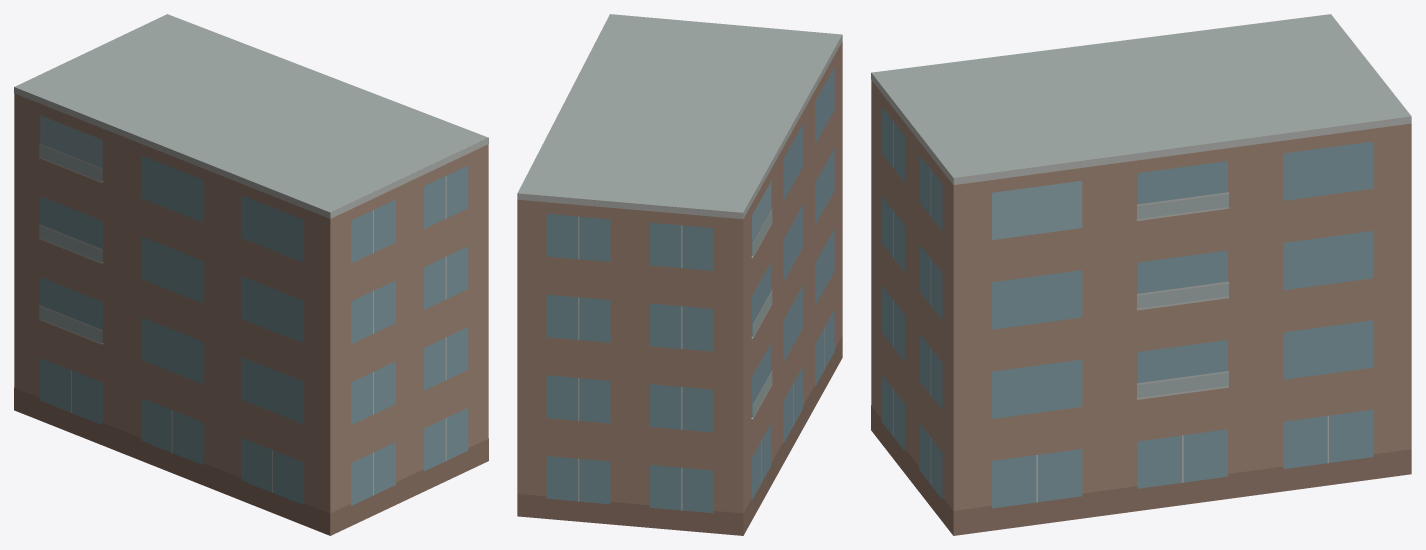
File: survey-upis-32612289.glb
The picture shows the model from 3 angles, left to right: view 1: azimuth 30°, elevation 25°; view 2: azimuth 150°, elevation 25°; view 3: azimuth 270°, elevation 25°; orthographic projection. The views are drawn at different scales.
Parts seen in each view (by area): view 1: survey-upis-32612289.tmp; view 2: survey-upis-32612289.tmp; view 3: survey-upis-32612289.tmp.
Part boxes in pixels (left/top/right/bottom): survey-upis-32612289.tmp: left=14, top=14, right=488, bottom=535; survey-upis-32612289.tmp: left=517, top=14, right=842, bottom=535; survey-upis-32612289.tmp: left=871, top=14, right=1411, bottom=535.
Bounding box in the file's own units: 12.21 × 12.4 × 16.99.
